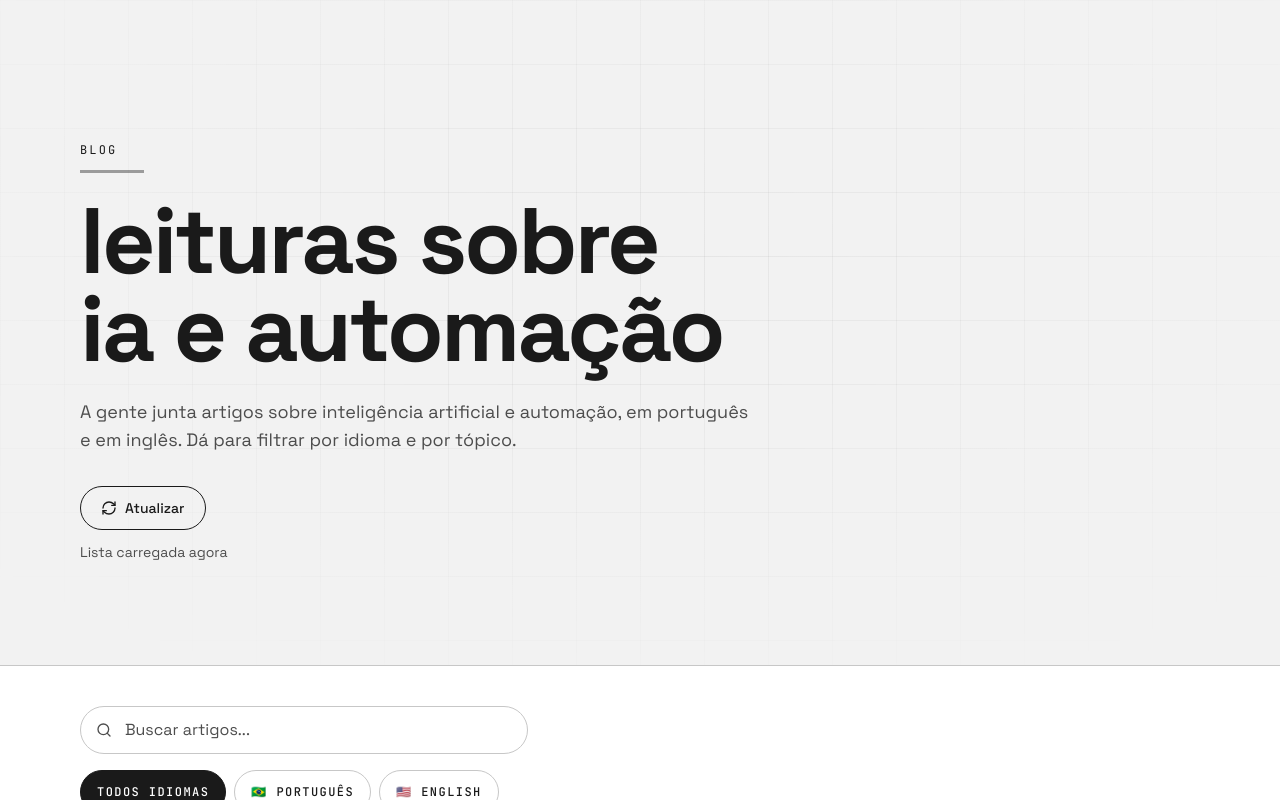
Test case: BlogPage keeps the focus and the band of the filters › keeps the band mounted, disabled, while Atualizar loads again, and keeps what was typed
Step 1. Type "Artigo" into the field labelled "Buscar artigos" → x=304, y=730, box [80, 706, 528, 754]
(page scrolled)
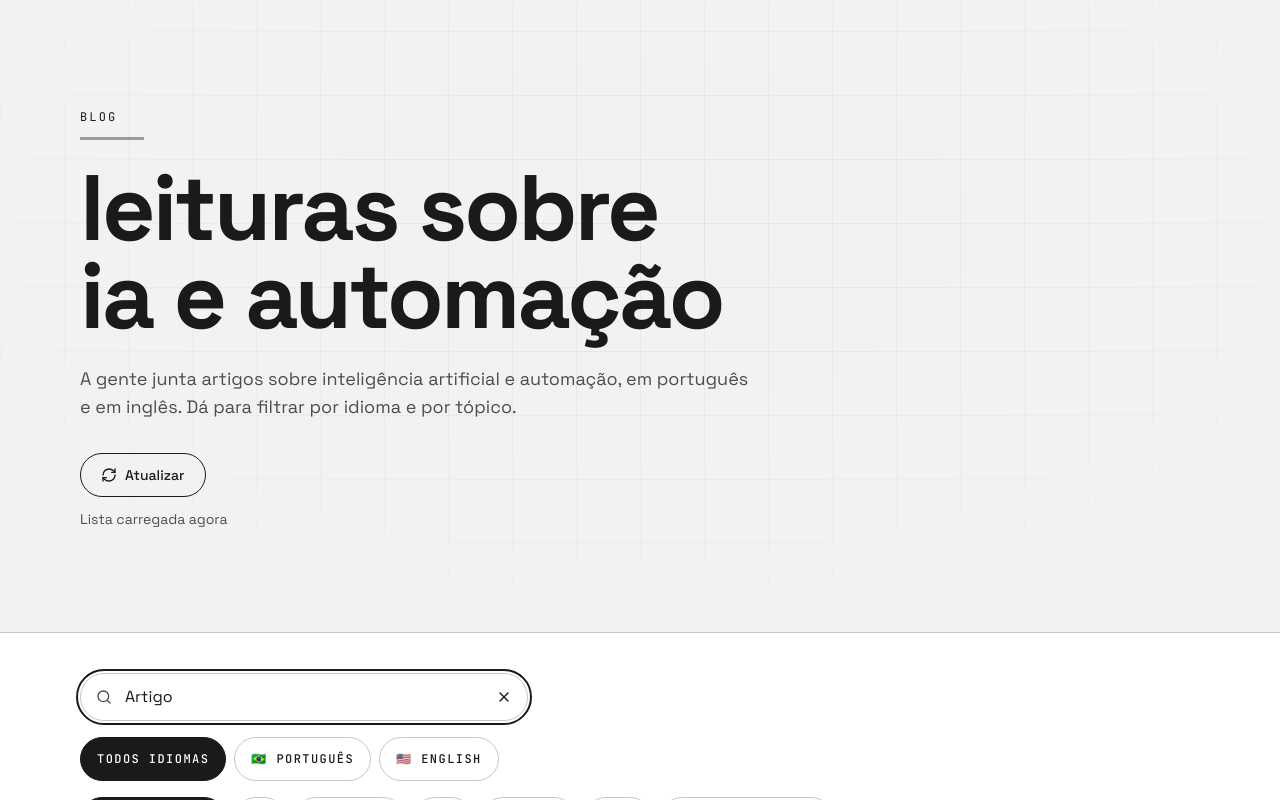
Step 2. Click the button "Atualizar" → x=143, y=474, box [80, 452, 206, 496]
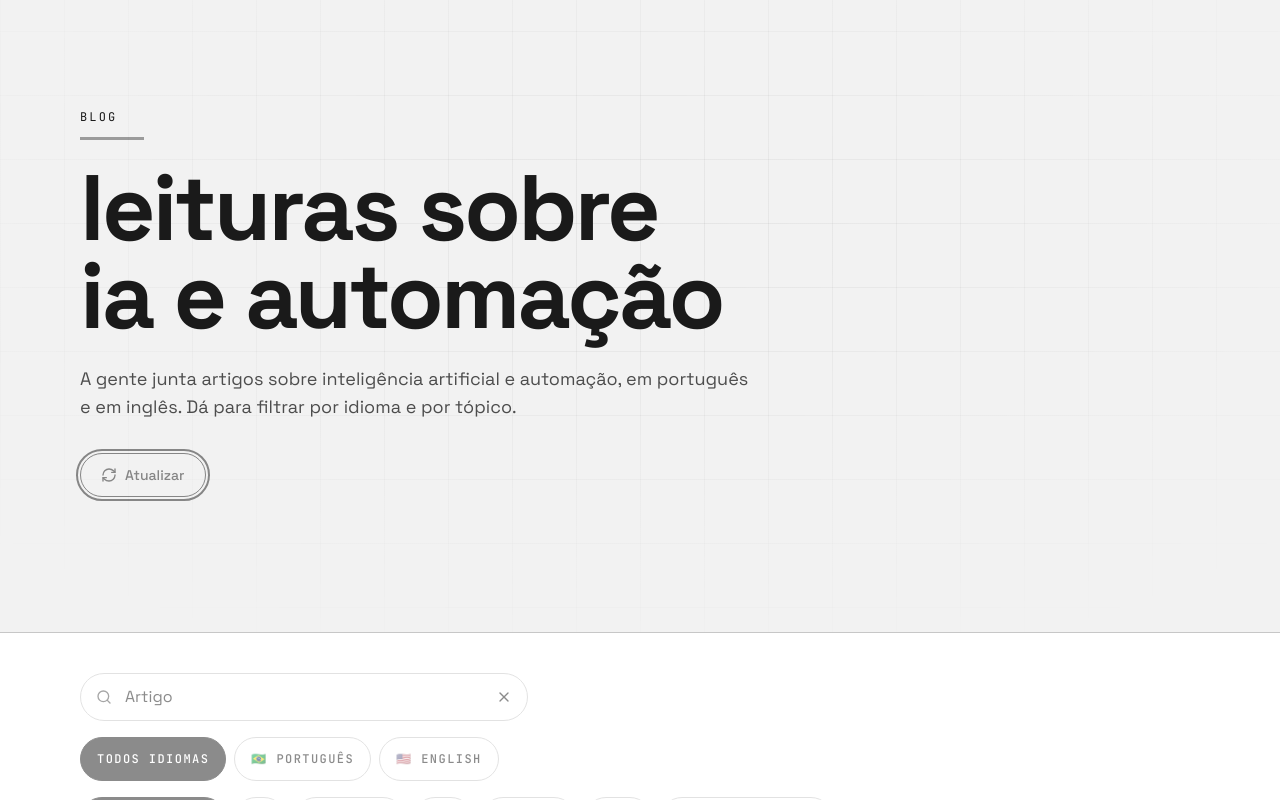
Result: the field named "Buscar artigos" is disabled at [80, 673, 528, 721]
